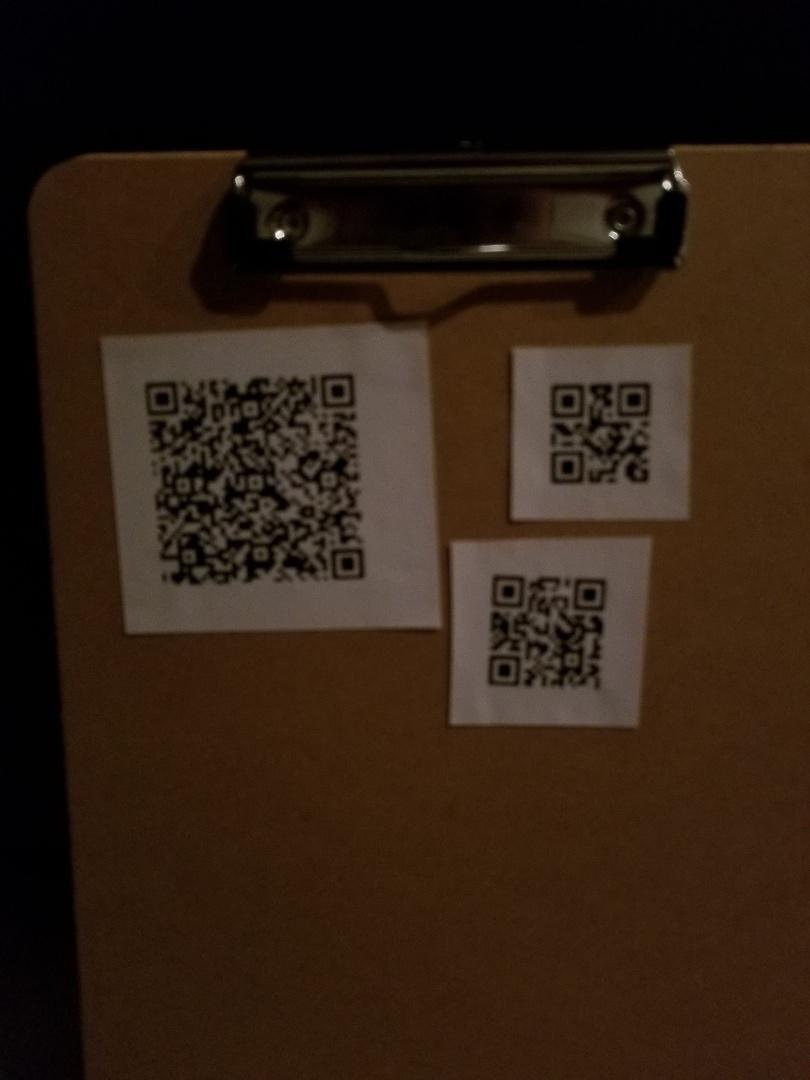Finder pattern: (136, 375, 184, 418), (544, 378, 589, 420), (614, 376, 656, 420), (545, 445, 589, 487), (314, 370, 359, 411), (327, 542, 368, 586), (482, 649, 523, 692), (571, 572, 610, 616), (486, 569, 528, 609)
